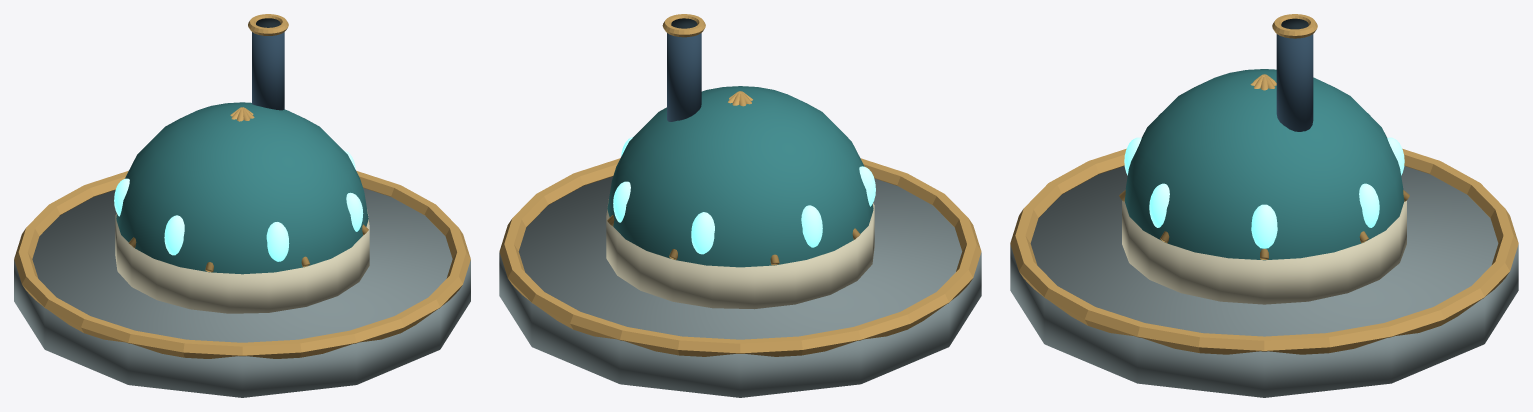
Rendered from colony.glb.
The picture shows the model from 3 angles, left to right: view 1: azimuth 30°, elevation 25°; view 2: azimuth 150°, elevation 25°; view 3: azimuth 270°, elevation 25°; orthographic projection. The views are drawn at different scales.
Visible parts, largest first — view 1: colony / Iron | weathered steel, colony / Paint | North Sea petrol, colony / Brass | machined champagne, colony / Ceramic | warm ivory, colony / Paint | Prussian blue, colony / Glass | luminous mint; view 2: colony / Iron | weathered steel, colony / Paint | North Sea petrol, colony / Brass | machined champagne, colony / Ceramic | warm ivory, colony / Paint | Prussian blue, colony / Glass | luminous mint; view 3: colony / Iron | weathered steel, colony / Paint | North Sea petrol, colony / Brass | machined champagne, colony / Ceramic | warm ivory, colony / Paint | Prussian blue, colony / Glass | luminous mint.
Boxes of the visible parts, bbox=[...] form: colony / Iron | weathered steel: bbox=[14, 188, 470, 397]; colony / Paint | North Sea petrol: bbox=[116, 102, 368, 274]; colony / Brass | machined champagne: bbox=[14, 14, 470, 358]; colony / Ceramic | warm ivory: bbox=[115, 209, 369, 313]; colony / Paint | Prussian blue: bbox=[252, 32, 284, 110]; colony / Glass | luminous mint: bbox=[114, 150, 363, 261]; colony / Iron | weathered steel: bbox=[499, 176, 981, 397]; colony / Paint | North Sea petrol: bbox=[607, 86, 873, 267]; colony / Brass | machined champagne: bbox=[499, 14, 981, 356]; colony / Ceramic | warm ivory: bbox=[606, 199, 874, 309]; colony / Paint | Prussian blue: bbox=[667, 33, 701, 121]; colony / Glass | luminous mint: bbox=[613, 137, 875, 254]; colony / Iron | weathered steel: bbox=[1010, 166, 1518, 397]; colony / Paint | North Sea petrol: bbox=[1124, 69, 1404, 260]; colony / Brass | machined champagne: bbox=[1010, 14, 1518, 354]; colony / Ceramic | warm ivory: bbox=[1122, 201, 1406, 304]; colony / Paint | Prussian blue: bbox=[1276, 34, 1313, 131]; colony / Glass | luminous mint: bbox=[1124, 137, 1404, 248].
Bounding box in the file's own units: 5 × 3.39 × 5.
